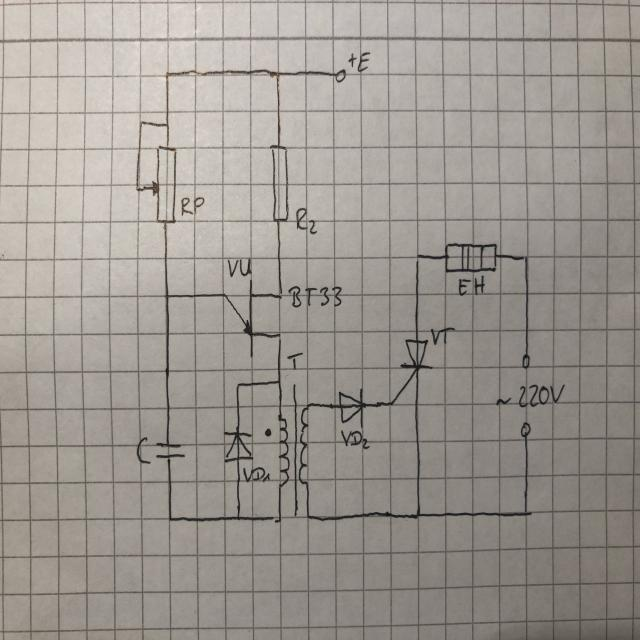capacitor: (154, 441, 186, 459)
diode: (220, 429, 255, 465), (337, 387, 365, 428)
junction: (413, 252, 423, 266), (520, 251, 530, 264), (162, 117, 171, 131), (133, 180, 142, 194), (274, 376, 283, 390), (303, 508, 312, 522), (387, 396, 396, 410), (521, 503, 529, 518), (273, 68, 281, 82), (163, 67, 171, 81), (137, 118, 145, 132), (276, 288, 284, 302), (274, 328, 282, 342), (163, 288, 171, 302), (166, 510, 174, 524), (233, 510, 241, 524), (275, 510, 283, 524), (235, 378, 243, 392), (413, 506, 421, 520)
resistor: (149, 144, 179, 226), (269, 143, 291, 225)
terminal: (519, 418, 533, 442), (334, 64, 348, 85), (520, 352, 532, 368)
text: (496, 380, 564, 407), (288, 284, 342, 308), (339, 427, 371, 451), (295, 206, 318, 234), (456, 274, 486, 295), (179, 194, 205, 218), (227, 256, 251, 278), (135, 434, 151, 466), (242, 466, 270, 484), (429, 325, 454, 345), (286, 350, 303, 370), (356, 51, 371, 72)
thyristor: (399, 336, 434, 384)
transformer: (264, 401, 314, 491)
transistor: (219, 276, 258, 360)
